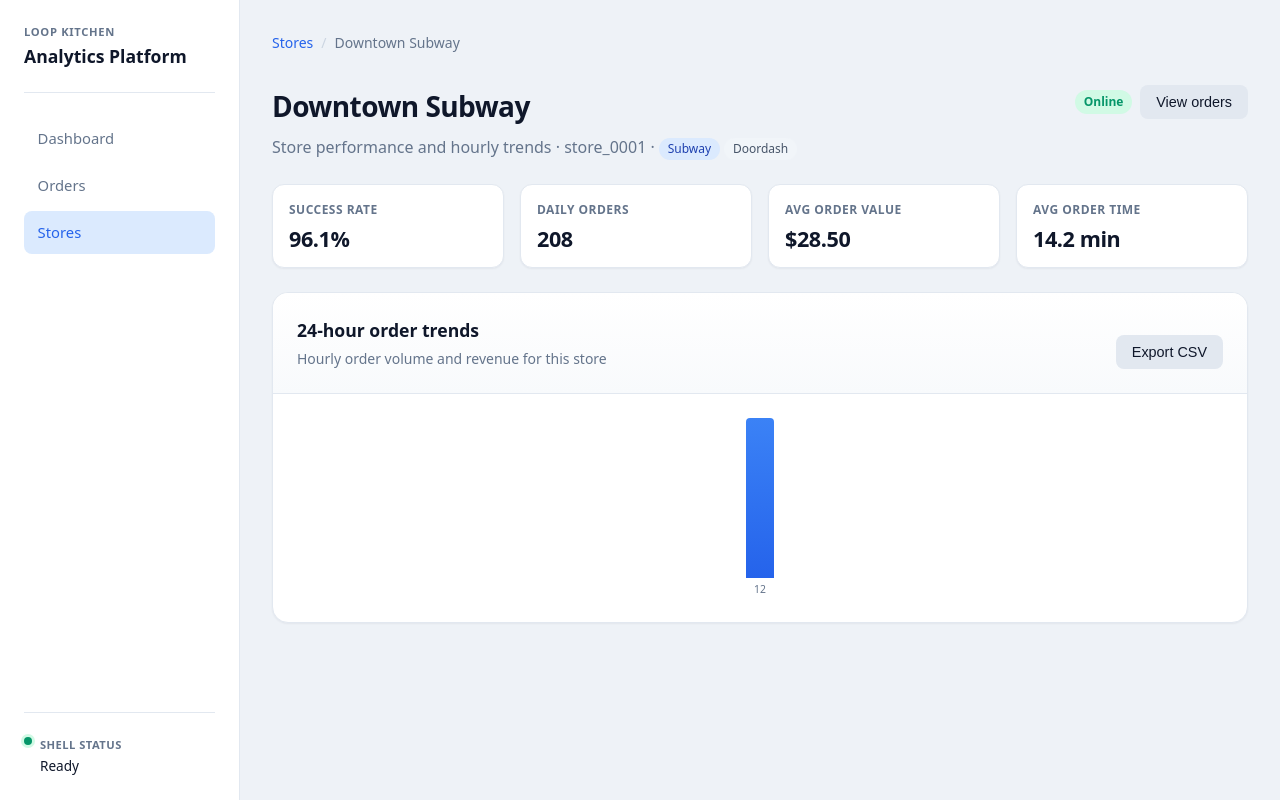
Test: App › loads orders with infinite scroll on the orders page
This screenshot has width=1280, height=800.
Click the link "Orders": (62, 185) [38,175,86,195]
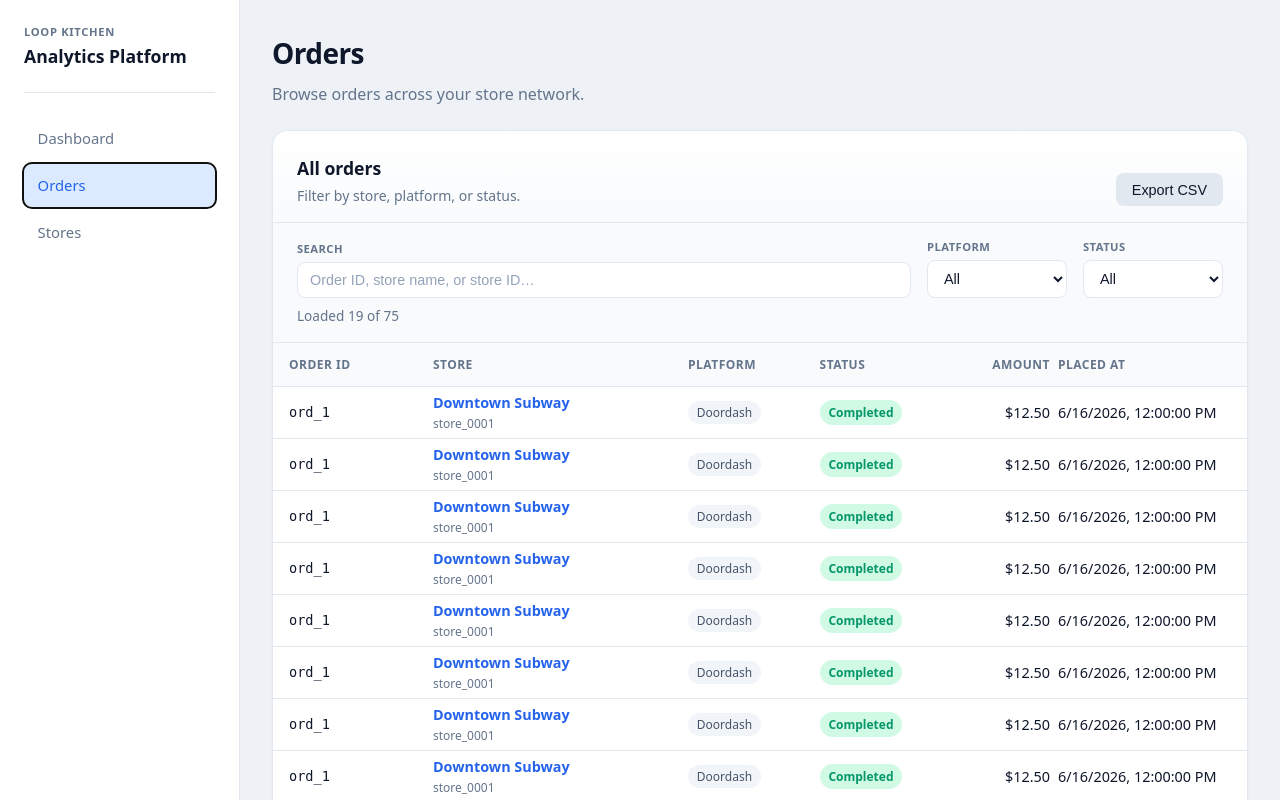
Expected: the text "Loaded 1 of 75" is shown, [297,306,399,326]
